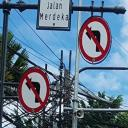NoVirarEsquerda: (79, 19, 110, 62), (19, 69, 49, 113)
